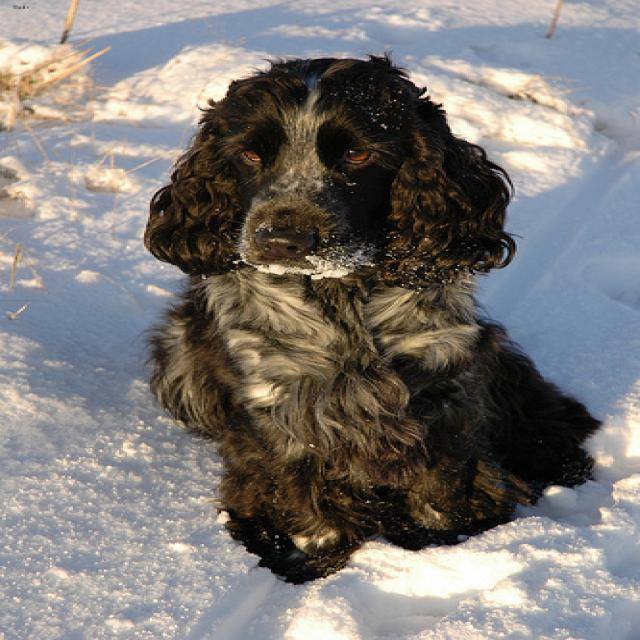dog-english_cocker_spaniel: (121, 45, 609, 591)
